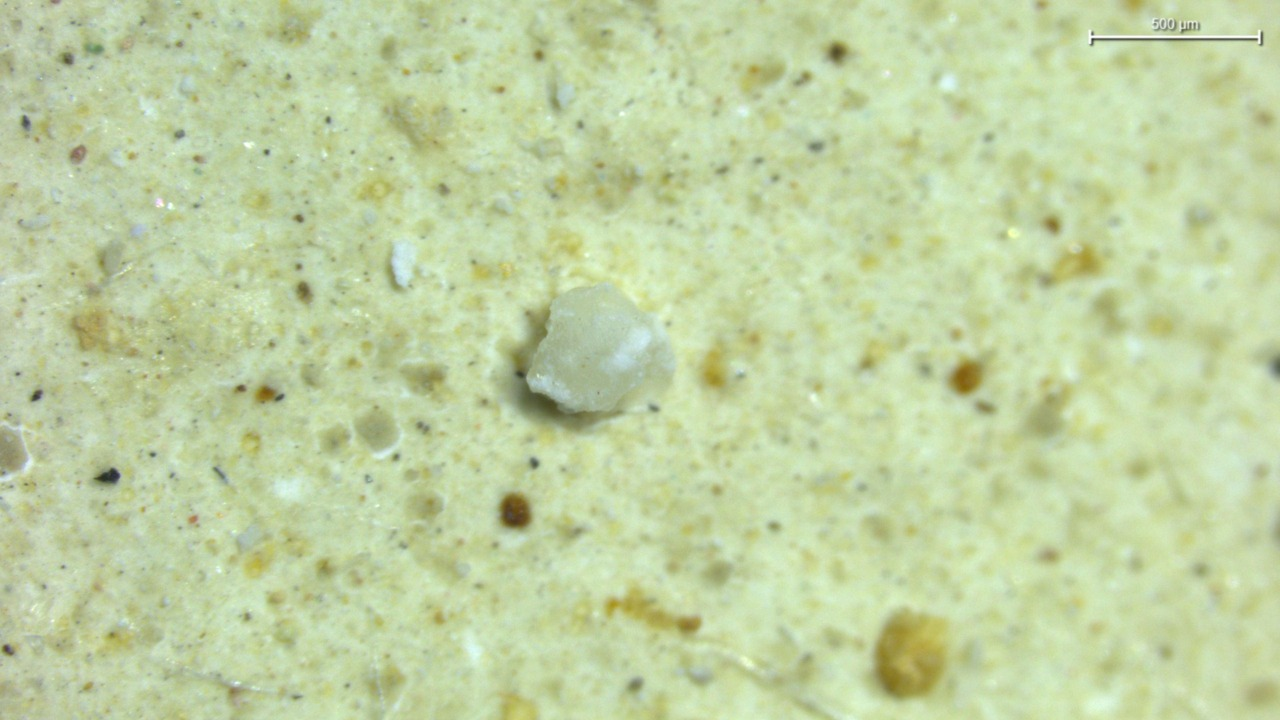microplastic_fragment: (526, 283, 675, 413), (391, 239, 417, 287), (556, 83, 575, 108)
